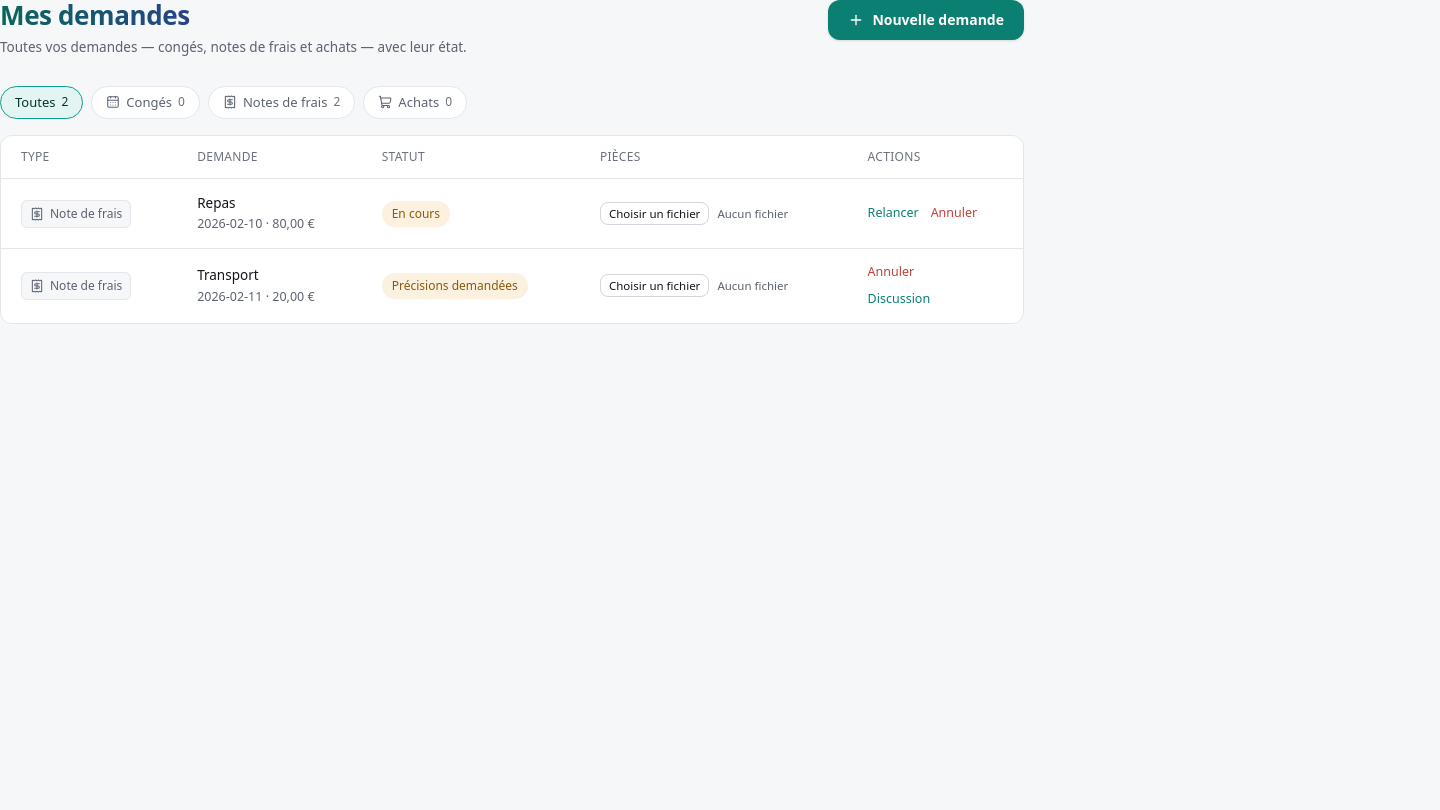
Test: MesDemandesPage — notes de frais › Discussion n'apparaît que pour une note dont des précisions sont demandées, avec son titre
The width and height of the screenshot is (1440, 810).
Expected: the text "Transport" is shown, [197,266,259,284]
Click the button "Discussion".
click(899, 299)  # box [868,290,930,309]
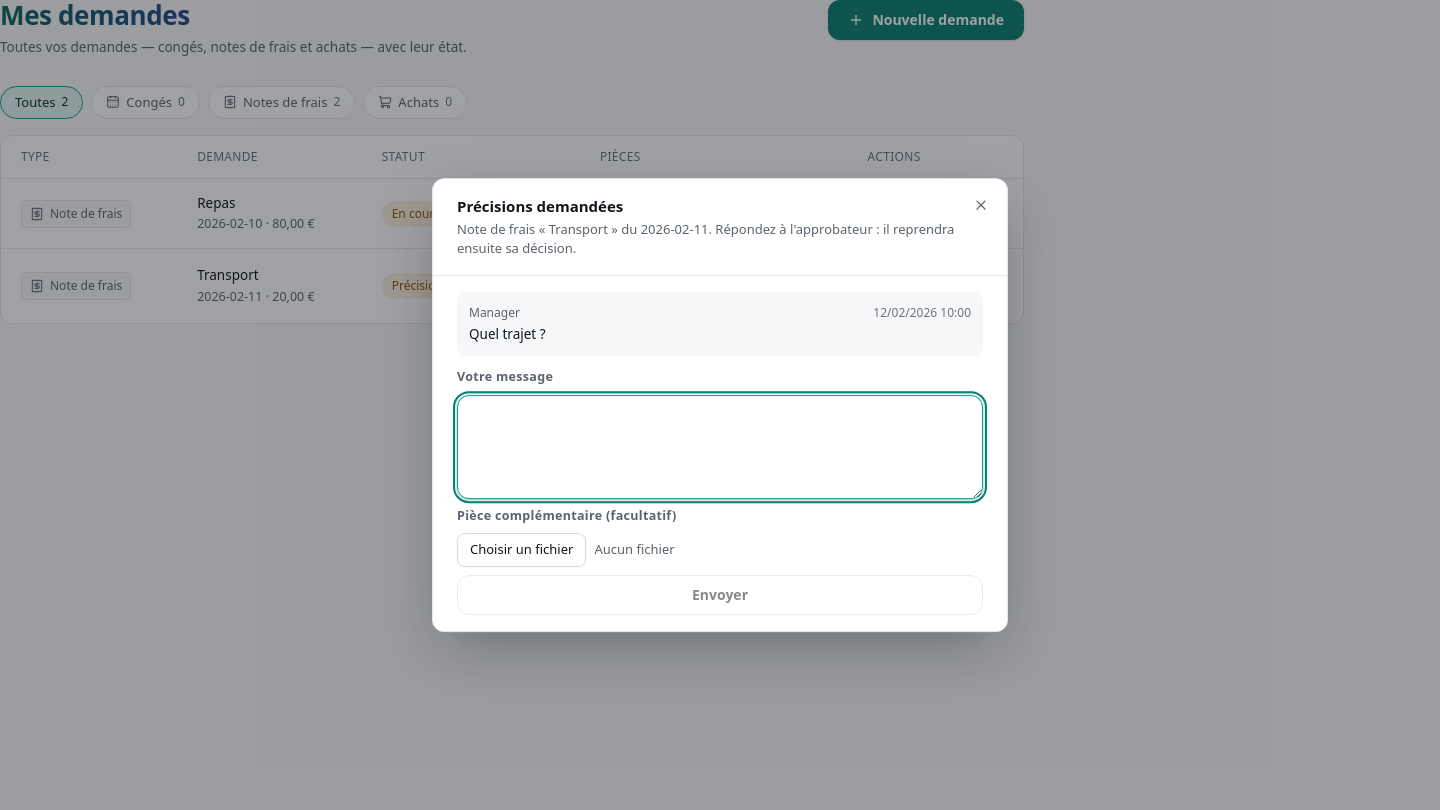
Result: the dialog shows "Note de frais « Transport » du 2026-02-11" at [457,220,708,238]
